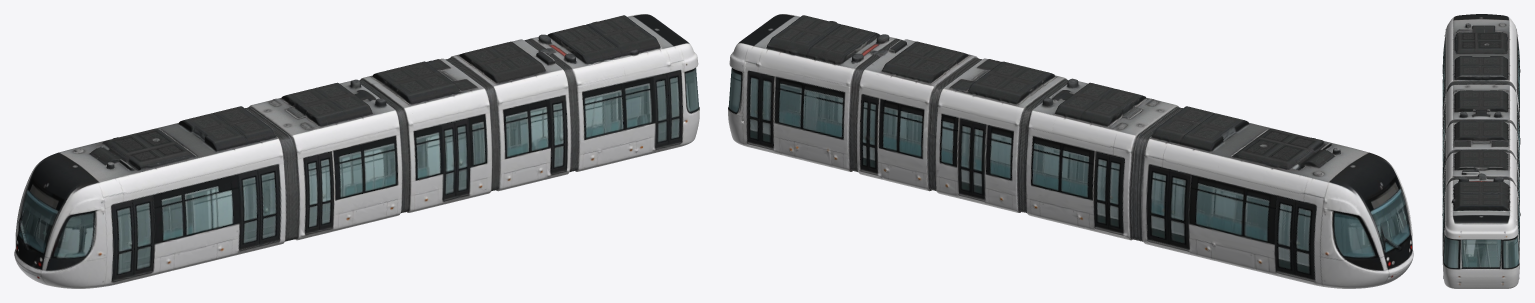
File: tram.glb
3 renders of one model, left to right at view 1: azimuth 30°, elevation 25°; view 2: azimuth 150°, elevation 25°; view 3: azimuth 270°, elevation 25°, orthographic. The views are drawn at different scales.
Visible parts, largest first — view 1: mesh_node; view 2: mesh_node; view 3: mesh_node.
Boxes of the visible parts, box(x1,y1,x2,y2) form: mesh_node: box(14, 14, 699, 288); mesh_node: box(728, 14, 1413, 288); mesh_node: box(1442, 14, 1520, 288).
Size of the model in its own units: 1.9 by 0.3026 by 0.2859.
1 material, 1 textured.
